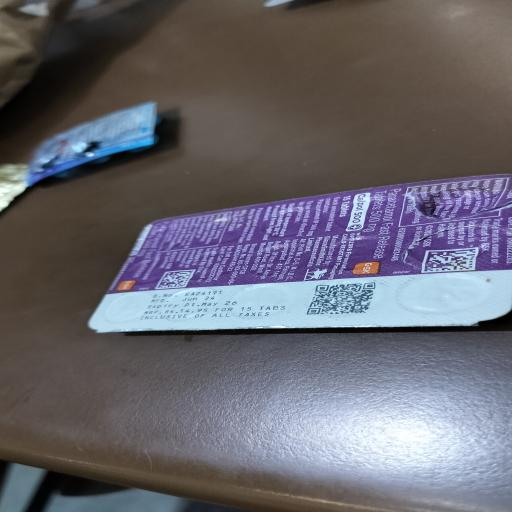calpol-500: (345, 191, 367, 233)
medicine: (85, 178, 511, 335)
